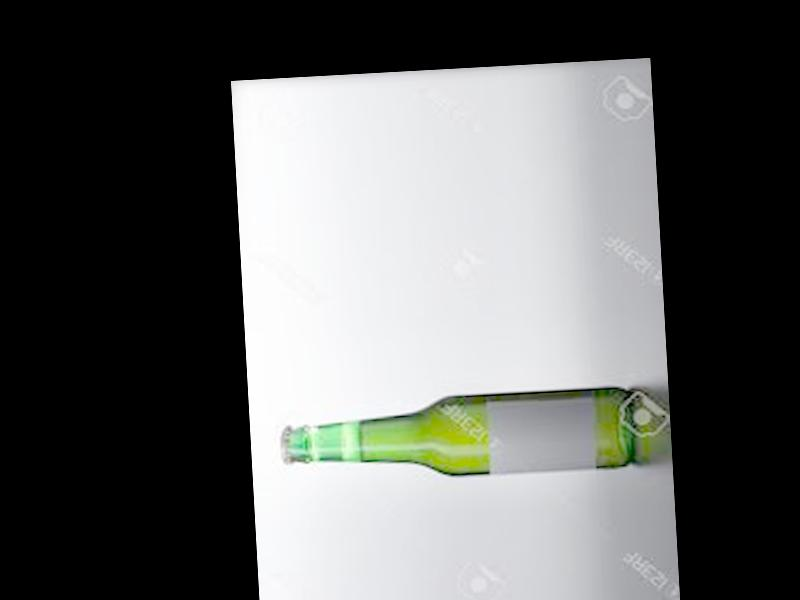Beer: (278, 385, 634, 487)
